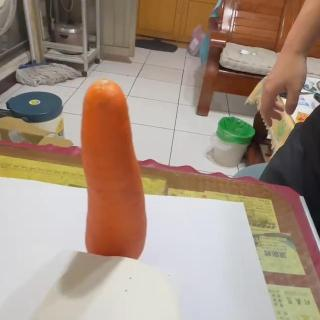carrot: (81, 79, 149, 261)
